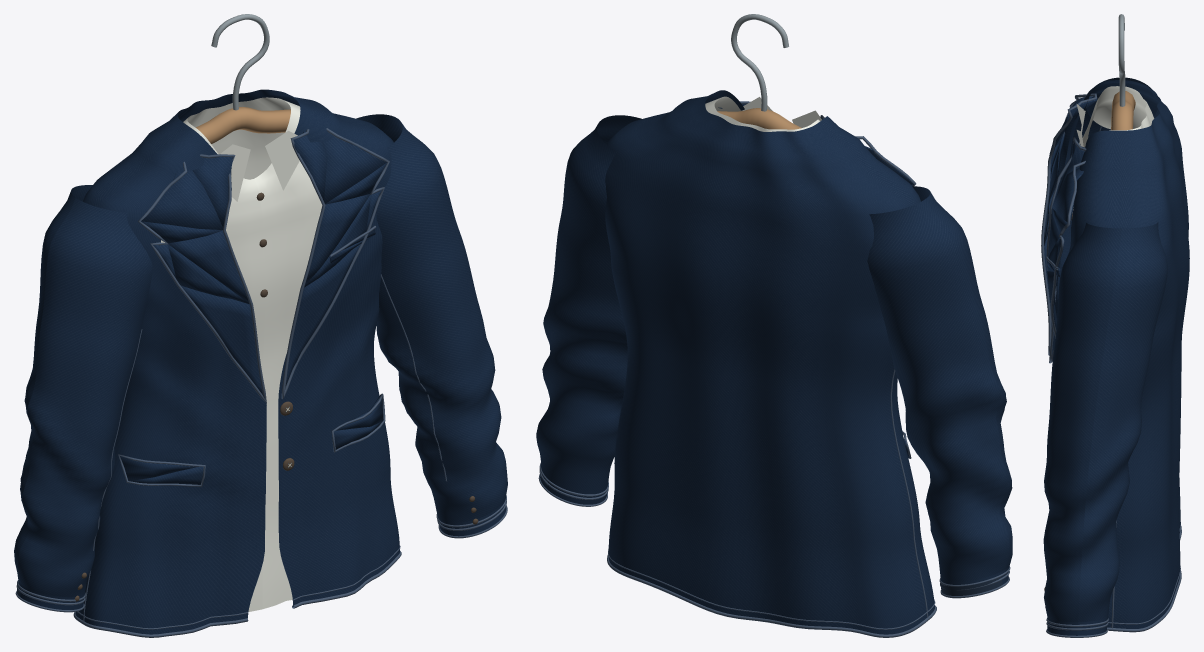
File: blazer.glb
3 renders of one model, left to right at view 1: azimuth 30°, elevation 25°; view 2: azimuth 150°, elevation 25°; view 3: azimuth 270°, elevation 25°, orthographic. The views are drawn at different scales.
Visible parts, largest first — view 1: blazer woven shell, Navy twill lapels, Light cotton shirt, Topstitched cloth edge, Warm beech, Brushed steel; view 2: blazer woven shell, Topstitched cloth edge, Light cotton shirt, Brushed steel, Warm beech; view 3: blazer woven shell, Topstitched cloth edge, Navy twill lapels, Light cotton shirt, Warm beech, Brushed steel.
Boxes of the visible parts, x1,y1,x2,y2 form: blazer woven shell: (14,89,507,634); Navy twill lapels: (141,131,386,397); Light cotton shirt: (161,97,322,611); Topstitched cloth edge: (15,128,507,637); Warm beech: (195,106,290,143); Brushed steel: (211,14,269,110); blazer woven shell: (536,90,1012,634); Topstitched cloth edge: (538,101,1010,637); Light cotton shirt: (705,96,821,131); Brushed steel: (731,14,788,111); Warm beech: (717,108,801,129); blazer woven shell: (1043,77,1189,635); Topstitched cloth edge: (1041,93,1181,637); Navy twill lapels: (1044,95,1097,361); Light cotton shirt: (1072,86,1154,212); Warm beech: (1111,91,1135,130); Brushed steel: (1118,14,1125,106).
Size of the model in its own units: 2.01 by 2.34 by 0.568.
Materials: 10 (2 with a texture image).
